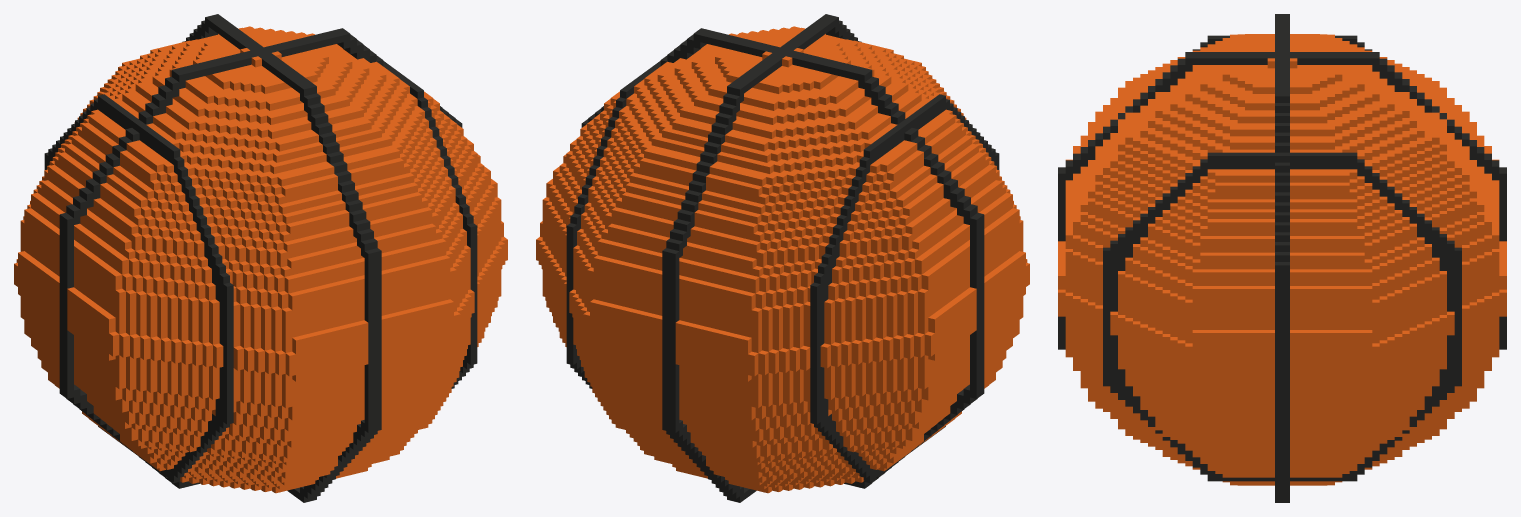
File: basketball.glb
The picture shows the model from 3 angles, left to right: view 1: azimuth 30°, elevation 25°; view 2: azimuth 150°, elevation 25°; view 3: azimuth 270°, elevation 25°; orthographic projection.
Visible parts, largest first — view 1: basketball:compound; view 2: basketball:compound; view 3: basketball:compound.
Part boxes in pixels (left/top/right/bottom): basketball:compound: left=14, top=14, right=507, bottom=502; basketball:compound: left=536, top=14, right=1029, bottom=502; basketball:compound: left=1058, top=14, right=1506, bottom=502.
Size of the model in its own units: 0.24 by 0.24 by 0.24.
